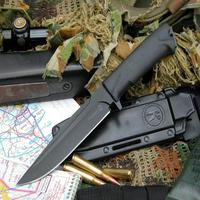knife: (13, 27, 170, 190)
